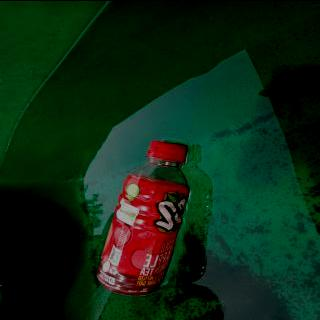bottle: (93, 140, 191, 296)
